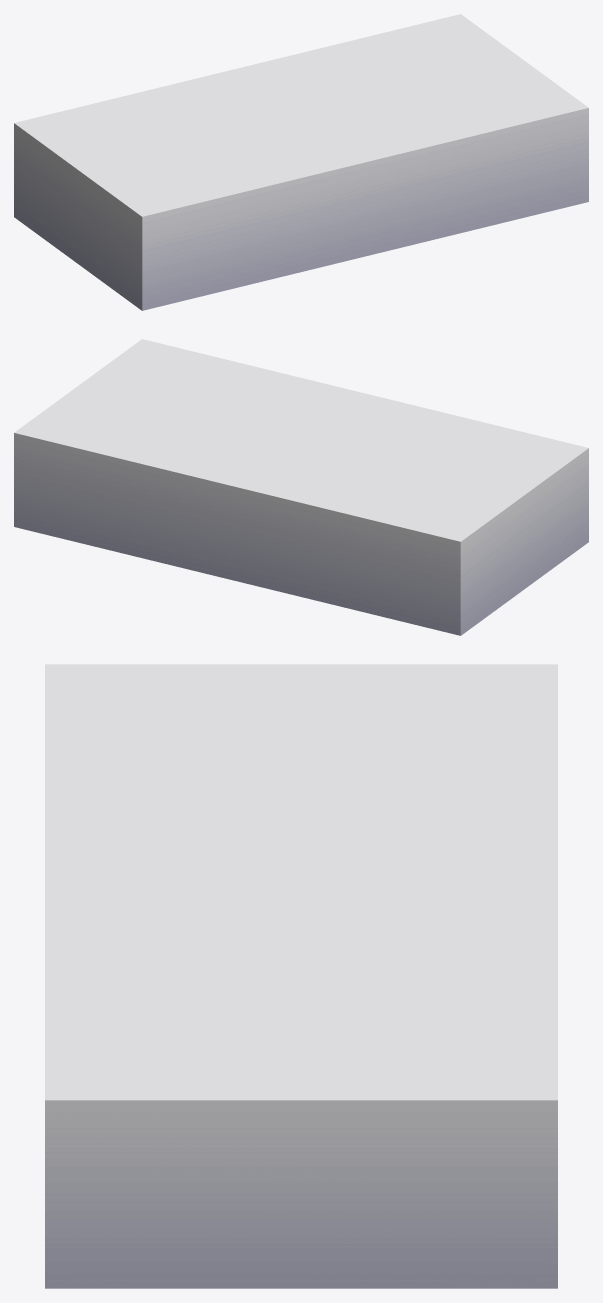
Rendered from brick-kit--none-lq-plate-1x2.glb.
3 renders of one model, top to bottom at view 1: azimuth 30°, elevation 25°; view 2: azimuth 150°, elevation 25°; view 3: azimuth 270°, elevation 25°, orthographic. The views are drawn at different scales.
Parts seen in each view (by area): view 1: none-lq-plate-1x2; view 2: none-lq-plate-1x2; view 3: none-lq-plate-1x2.
Part boxes in pixels (x1,y1,x2,y2): none-lq-plate-1x2: (14, 14, 588, 310); none-lq-plate-1x2: (14, 339, 588, 635); none-lq-plate-1x2: (45, 664, 557, 1288).
Bounding box in the file's own units: 0.159 × 0.032 × 0.079.
Materials: 1 (1 with a texture image).
